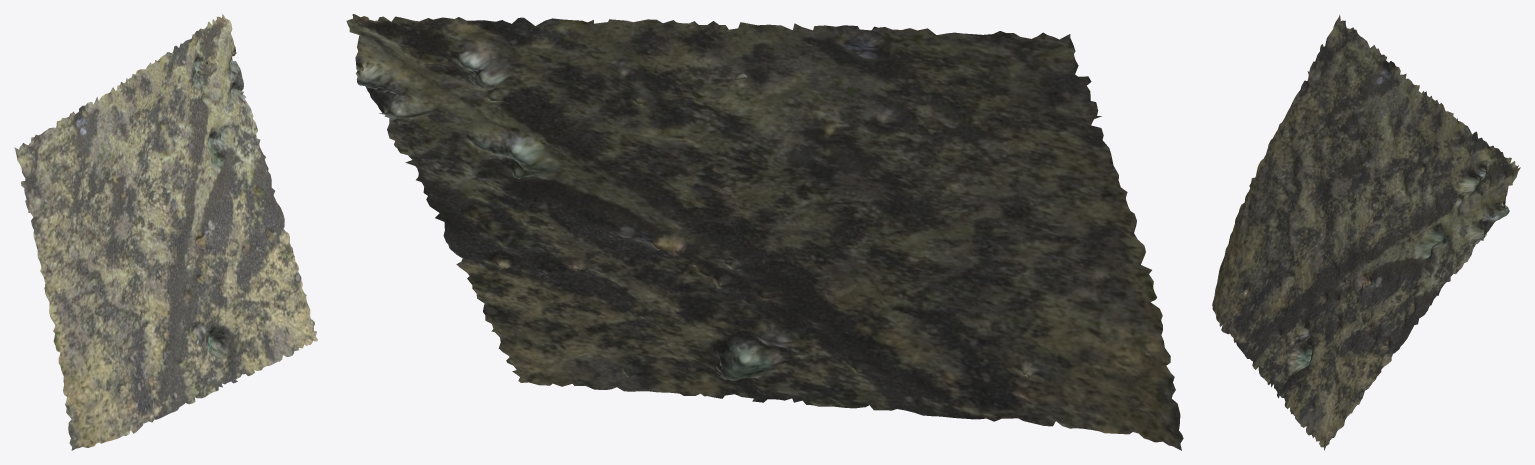
The model's file is tile_42.obj.
The picture shows the model from 3 angles, left to right: view 1: azimuth 30°, elevation 25°; view 2: azimuth 150°, elevation 25°; view 3: azimuth 270°, elevation 25°; orthographic projection. The views are drawn at different scales.
Size of the model in its own units: 1.14 by 0.9494 by 0.9388.
1 material, 1 textured.
